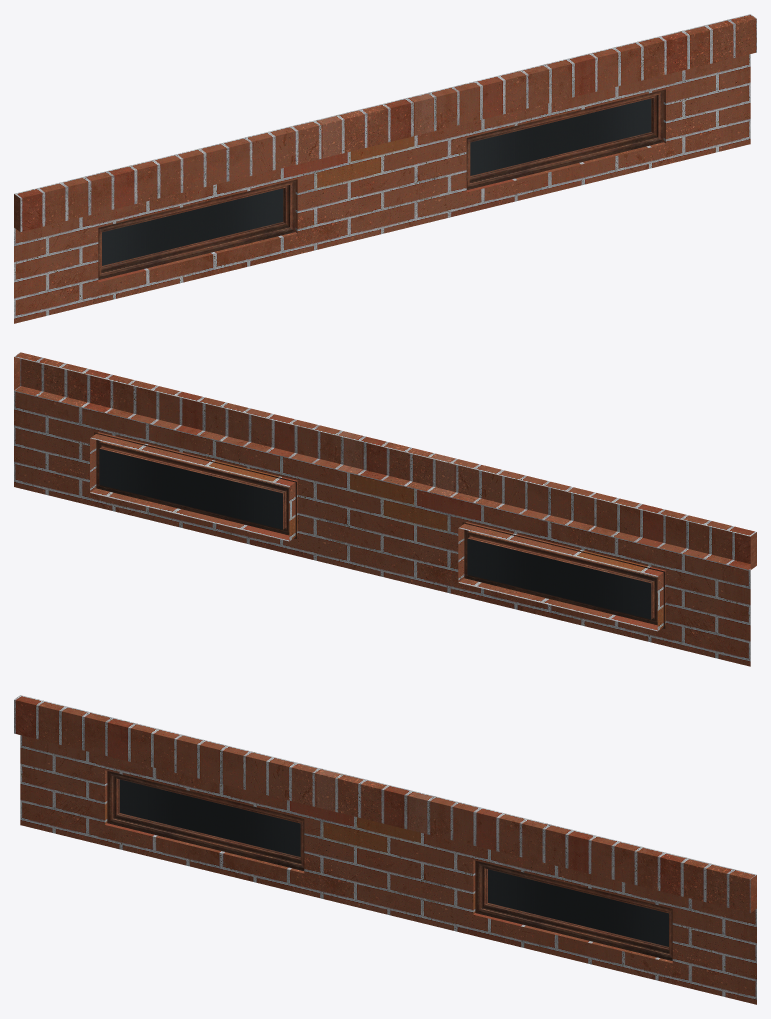
Rendered from House_05_Window_05.fbx.
3 renders of one model, top to bottom at view 1: azimuth 30°, elevation 25°; view 2: azimuth 150°, elevation 25°; view 3: azimuth 330°, elevation 25°, orthographic.
Parts seen in each view (by area): view 1: House_05_Window_05; view 2: House_05_Window_05; view 3: House_05_Window_05.
Boxes of the visible parts, x1,y1,x2,y2 form: House_05_Window_05: [14, 14, 756, 323]; House_05_Window_05: [14, 352, 756, 666]; House_05_Window_05: [14, 695, 756, 1004].
Size of the model in its own units: 400 by 67.48 by 13.96.
